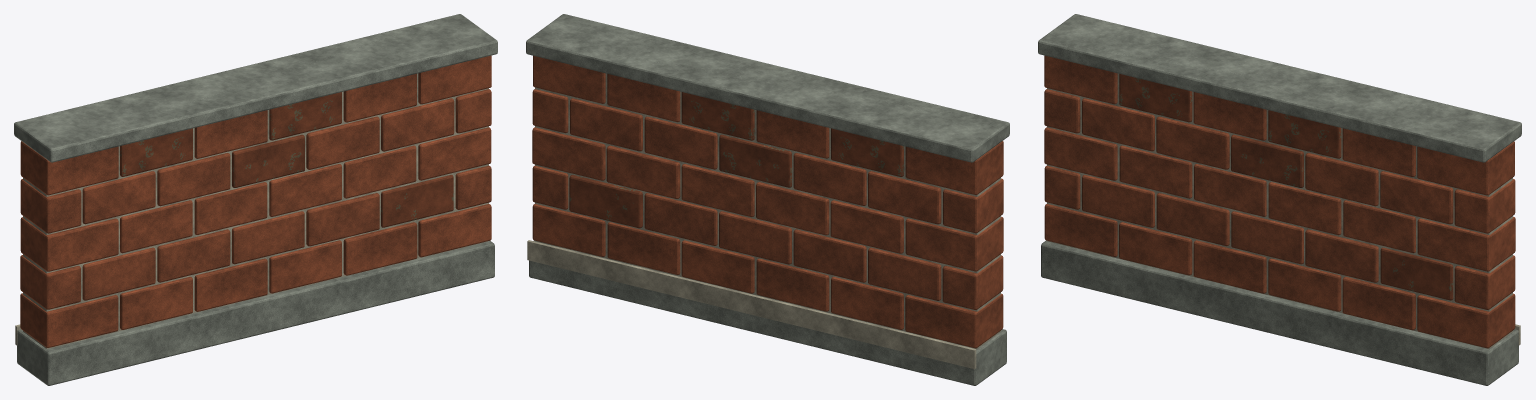
File: BLD_Wall_Laterite_3m_01.gltf
3 views of the same model, side by side, from view 1: azimuth 30°, elevation 25°; view 2: azimuth 150°, elevation 25°; view 3: azimuth 330°, elevation 25° (orthographic).
Parts seen in each view (by area): view 1: TF3_BLD_Wall_Laterite_3m_01; view 2: TF3_BLD_Wall_Laterite_3m_01; view 3: TF3_BLD_Wall_Laterite_3m_01.
Part boxes in pixels (box(x1,y1,x2,y2)): TF3_BLD_Wall_Laterite_3m_01: box(14, 14, 497, 385); TF3_BLD_Wall_Laterite_3m_01: box(526, 14, 1009, 385); TF3_BLD_Wall_Laterite_3m_01: box(1038, 14, 1521, 385).
Size of the model in its own units: 3 by 1.53 by 0.44.
4 materials, 4 textured.
